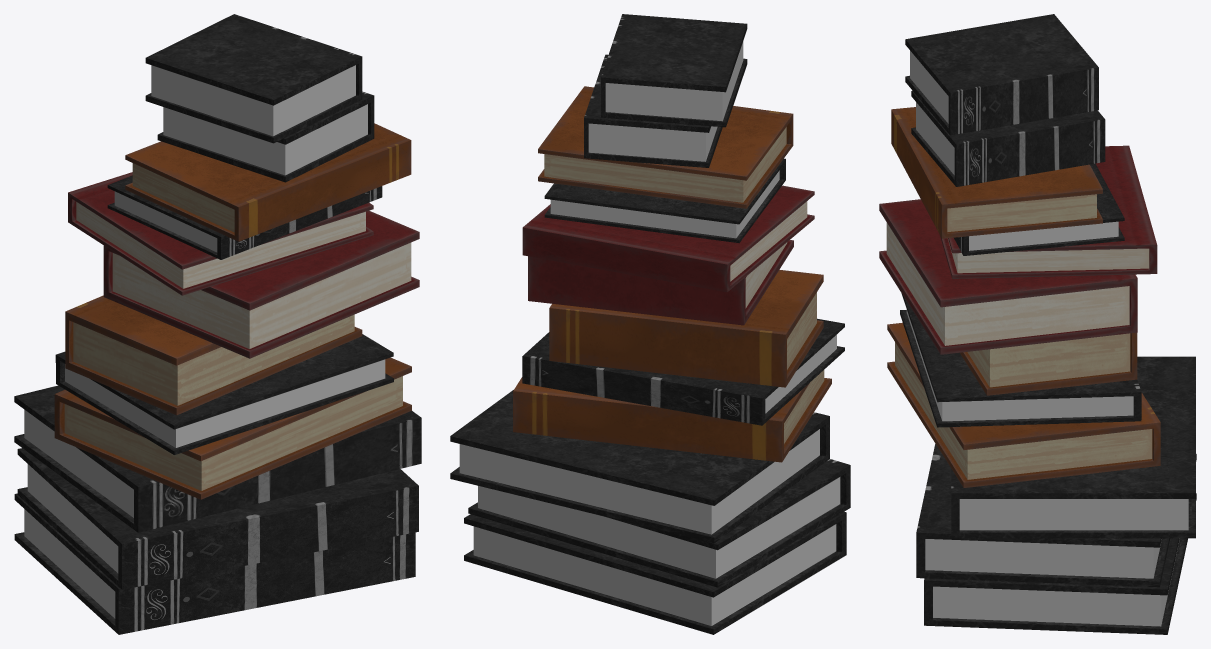
File: BookShelf_FloorStack_03.fbx
3 renders of one model, left to right at view 1: azimuth 30°, elevation 25°; view 2: azimuth 150°, elevation 25°; view 3: azimuth 270°, elevation 25°, orthographic. The views are drawn at different scales.
Visible parts, largest first — view 1: polySurface244; view 2: polySurface244; view 3: polySurface244.
Boxes of the visible parts, x1=… form: polySurface244: x1=14, y1=14, x2=421, y2=634; polySurface244: x1=450, y1=14, x2=850, y2=634; polySurface244: x1=879, y1=14, x2=1196, y2=634.
Bounding box in the file's own units: 1.21 × 1.98 × 1.11.
